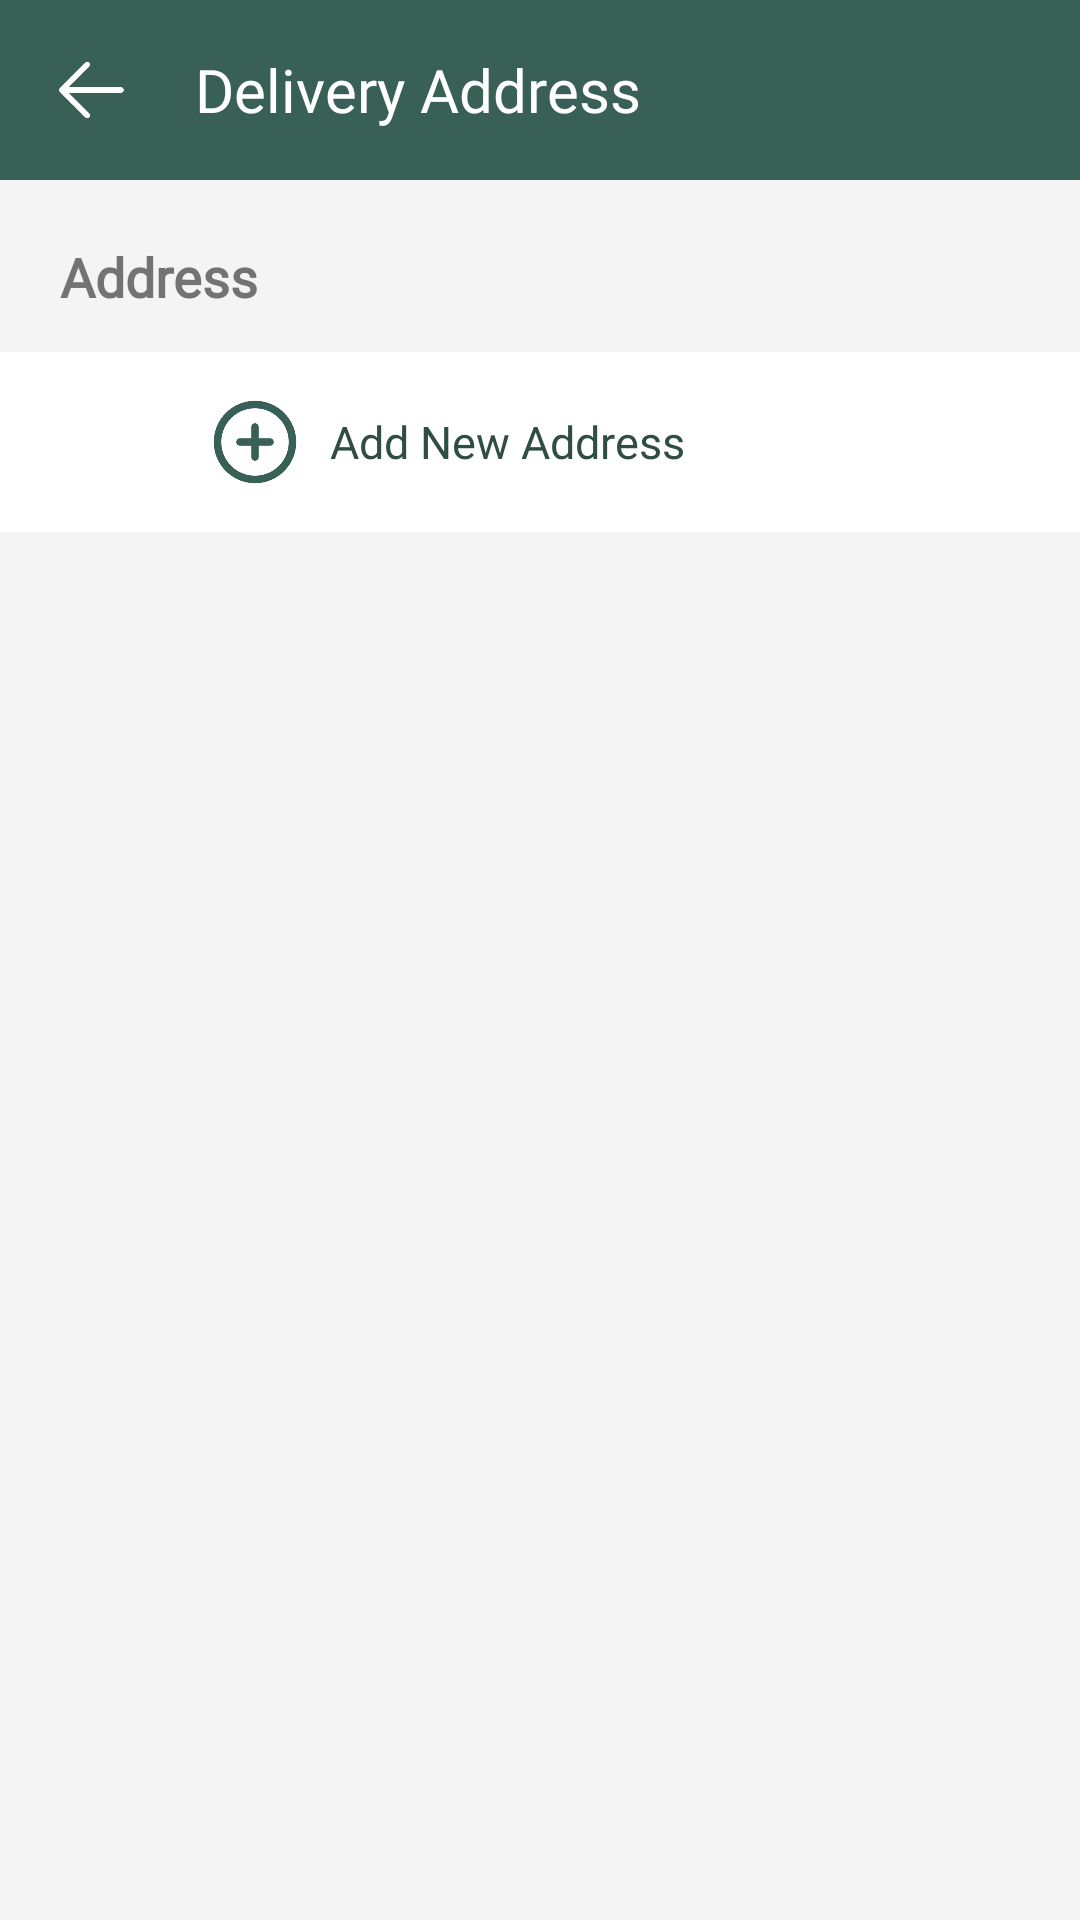

Icon click points for this 1080px×1920px phone screenshot, format (x=x, y=y):
plus: (x=255, y=442)
